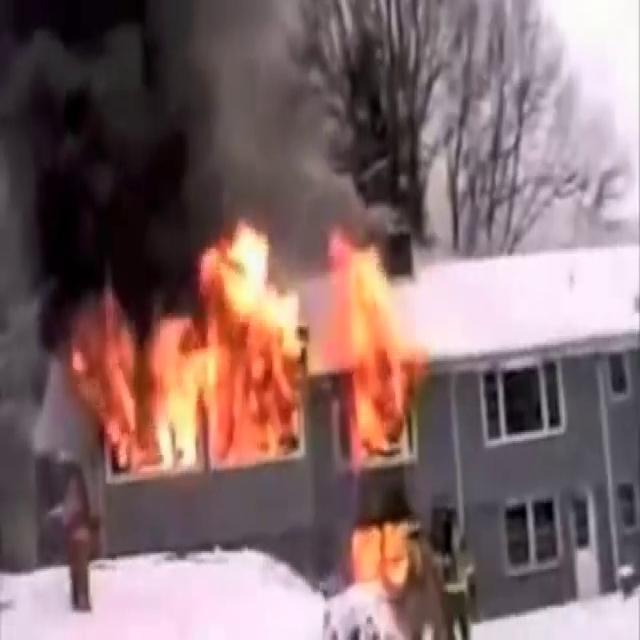Fire: (79, 206, 426, 487), (336, 506, 434, 626)
Smoke: (0, 0, 343, 308)
